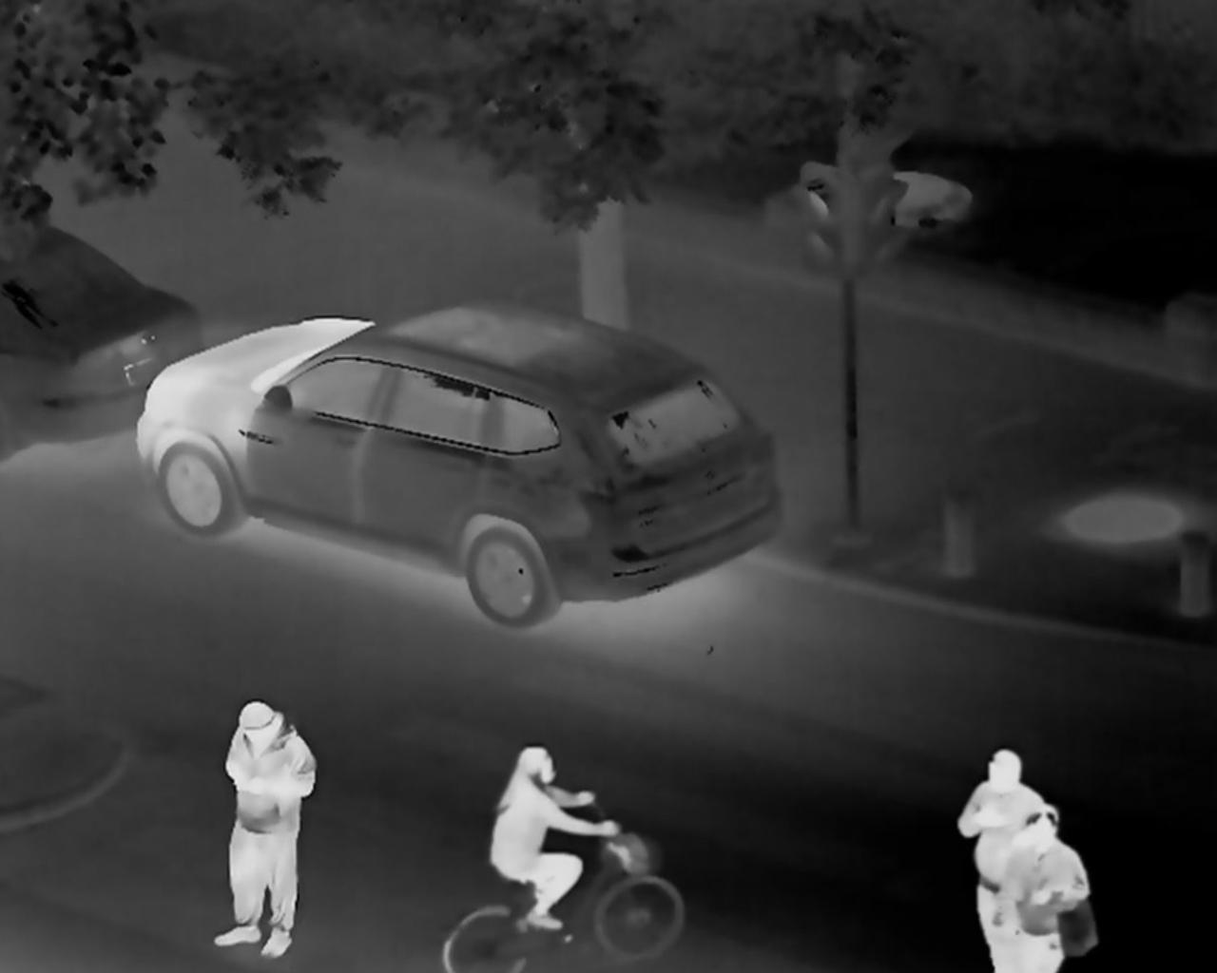person: (211, 699, 319, 957), (480, 736, 618, 932), (949, 741, 1045, 973), (993, 803, 1090, 973)
